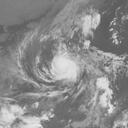cyclone: (17, 23, 118, 111)
